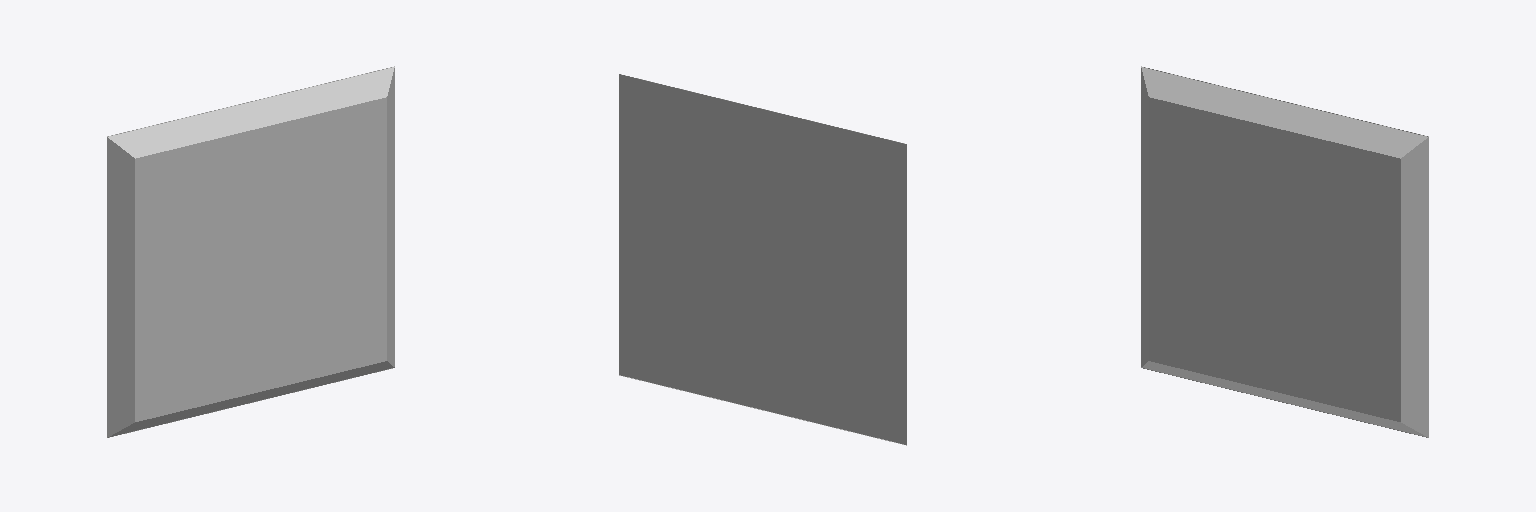
Rendered from Compgraph_floor.obj.
The picture shows the model from 3 angles: view 1: azimuth 30°, elevation 25°; view 2: azimuth 150°, elevation 25°; view 3: azimuth 330°, elevation 25°; orthographic projection.
Parts seen in each view (by area): view 1: Plane; view 2: Plane; view 3: Plane.
Part boxes in pixels (x1,y1,x2,y2): Plane: (107, 66, 394, 437); Plane: (619, 74, 906, 445); Plane: (1141, 66, 1428, 437).
Bounding box in the file's own units: 4.59 × 4.59 × 0.287.